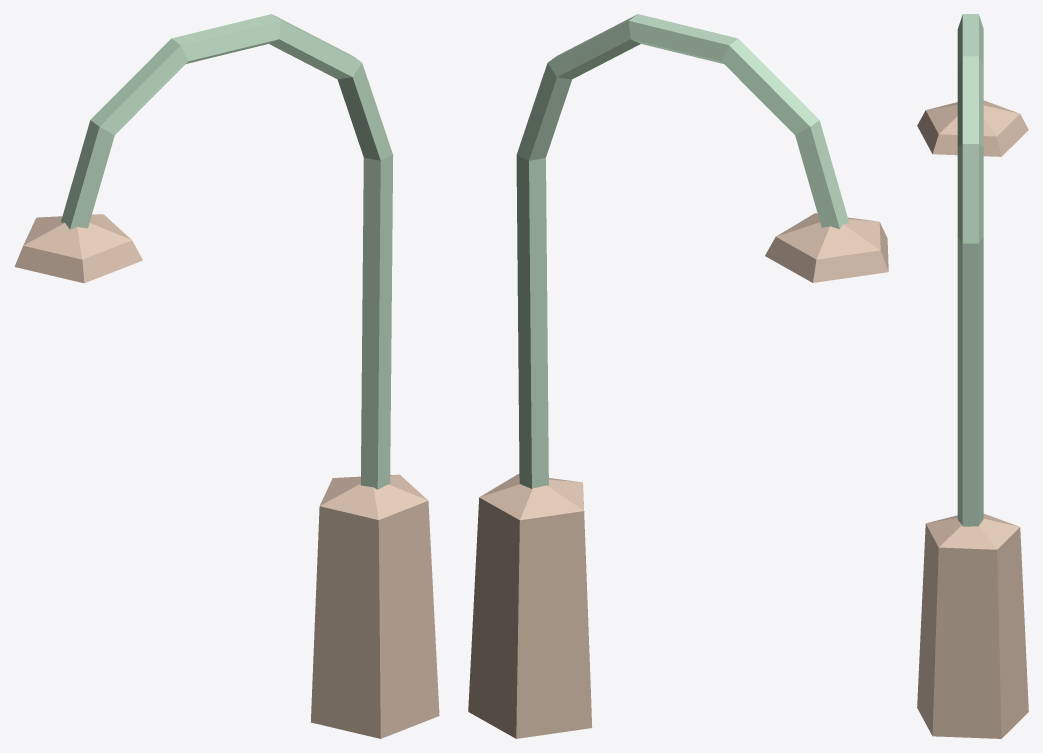
Rendered from lightpostTextured.fbx.
3 renders of one model, left to right at view 1: azimuth 30°, elevation 25°; view 2: azimuth 150°, elevation 25°; view 3: azimuth 270°, elevation 25°, orthographic. The views are drawn at different scales.
Visible parts, largest first — view 1: pCylinder19, pTorus4, pCylinder20; view 2: pCylinder19, pTorus4, pCylinder20; view 3: pCylinder19, pTorus4, pCylinder20.
Part boxes in pixels (<box>): pCylinder19: <box>310,474,439,738</box>; pTorus4: <box>61,14,393,489</box>; pCylinder20: <box>14,214,142,283</box>; pCylinder19: <box>468,474,592,738</box>; pTorus4: <box>516,14,849,488</box>; pCylinder20: <box>765,213,888,282</box>; pCylinder19: <box>917,513,1028,738</box>; pTorus4: <box>957,14,983,526</box>; pCylinder20: <box>917,100,1028,156</box>.
Bounding box in the file's own units: 14.83 × 25.03 × 4.09.
